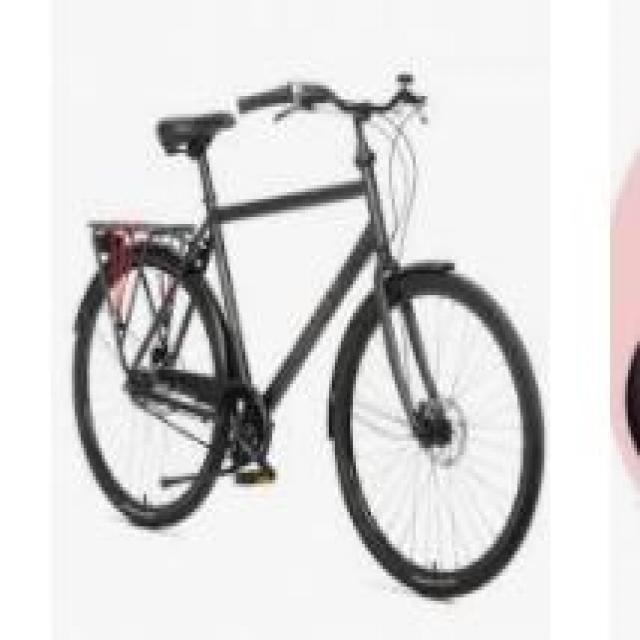bicycle: (73, 80, 543, 567)
